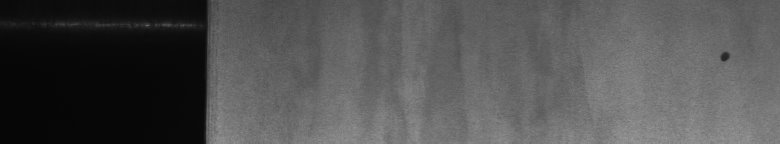fi: (716, 44, 736, 68)
